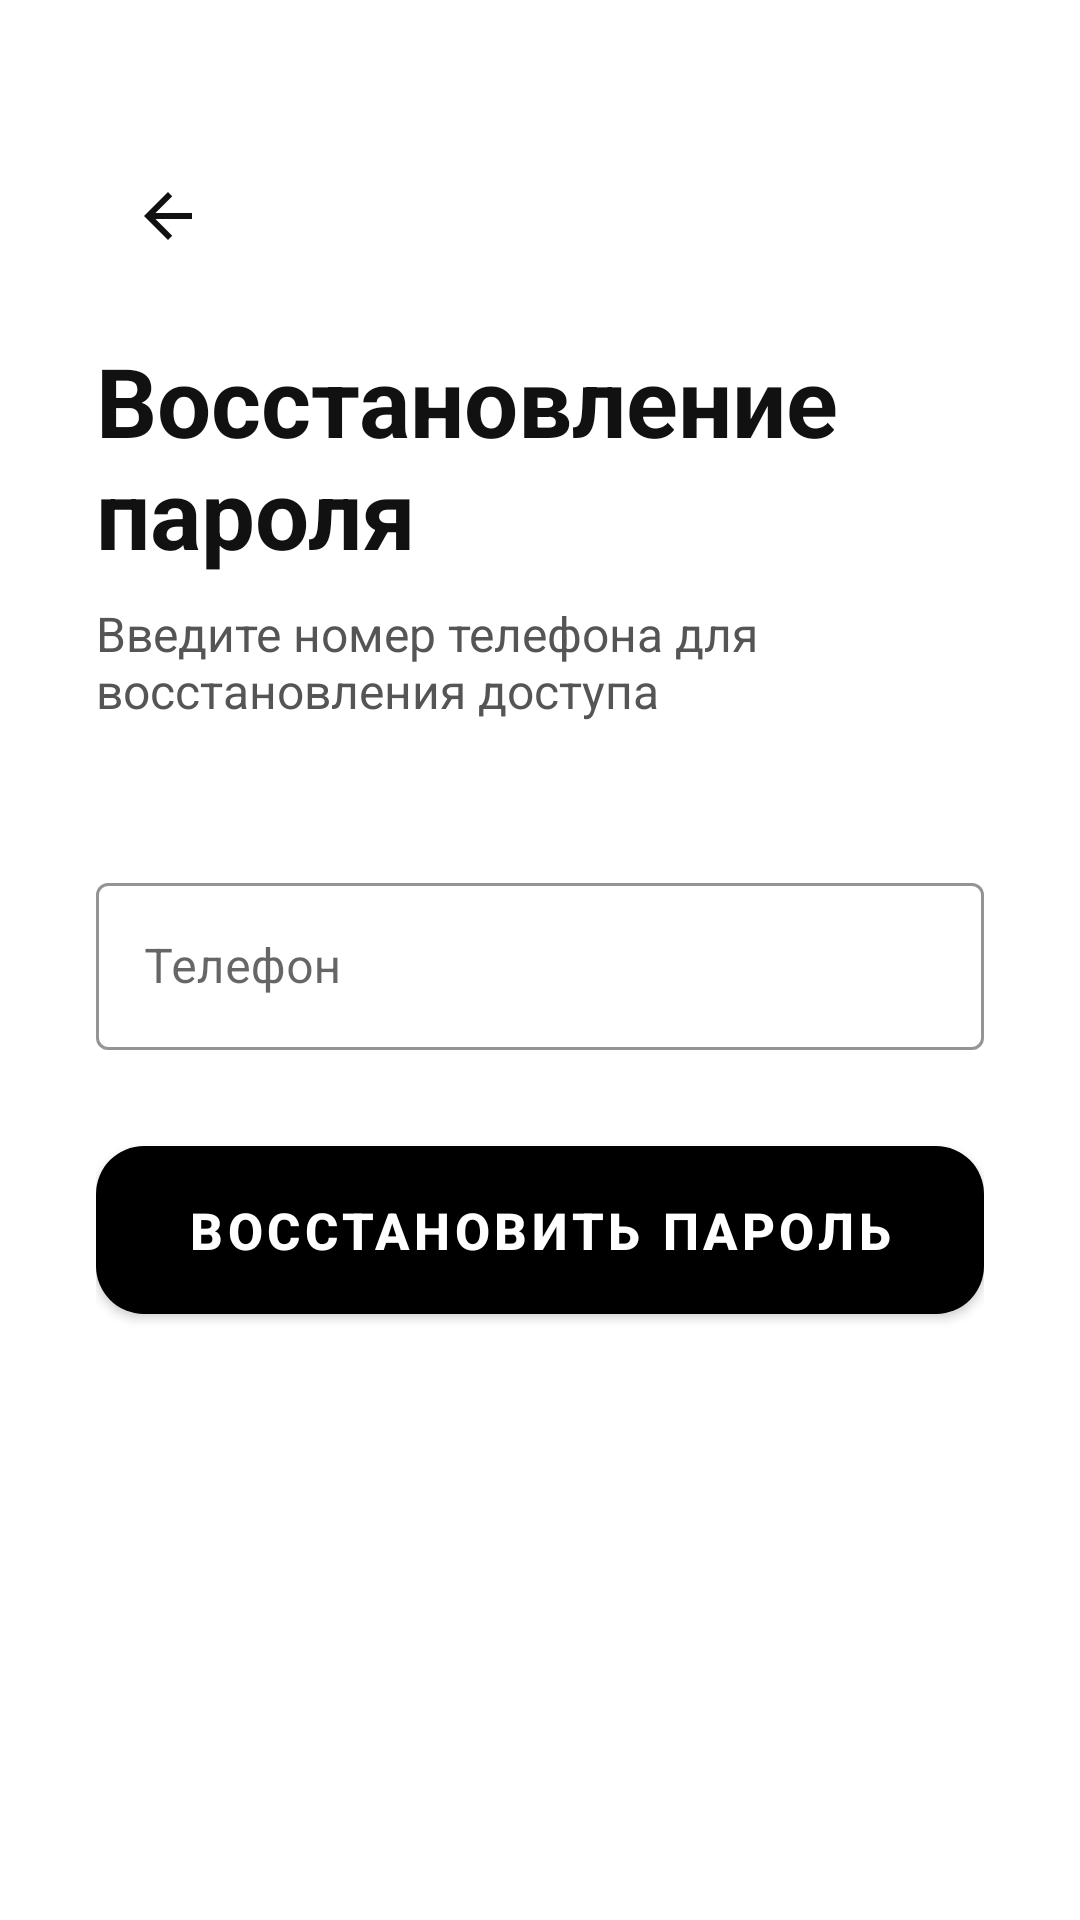

Named icons in this screenshot (1080×1920) and their bounding boxes, (x1, y1, x2, y2):
arrow back: (144, 192, 192, 240)
